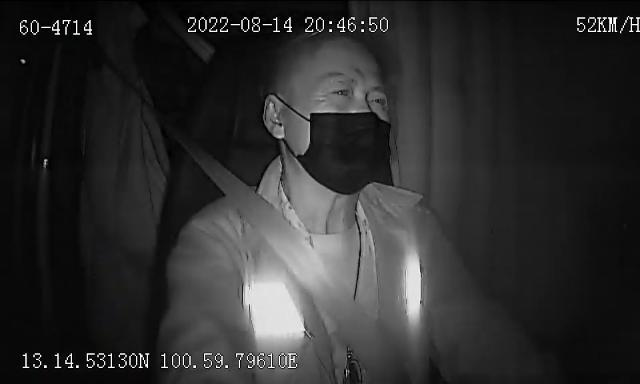SafeDriving: (363, 86, 394, 110), (323, 80, 356, 101)
Seatbelt: (169, 120, 407, 384)
